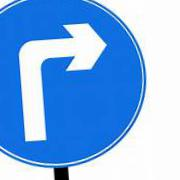right: (1, 8, 146, 167)
